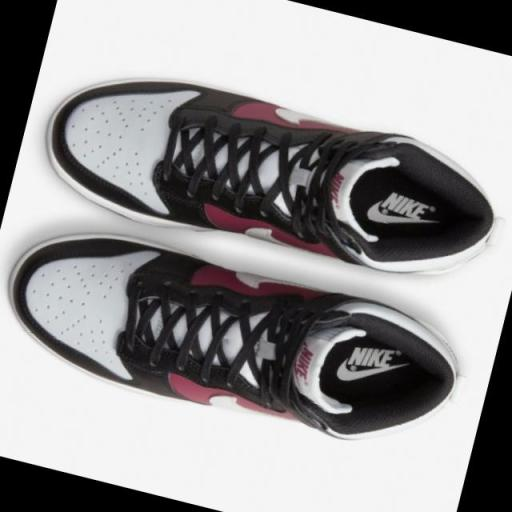Nike: (361, 200, 436, 238), (347, 340, 394, 372)
